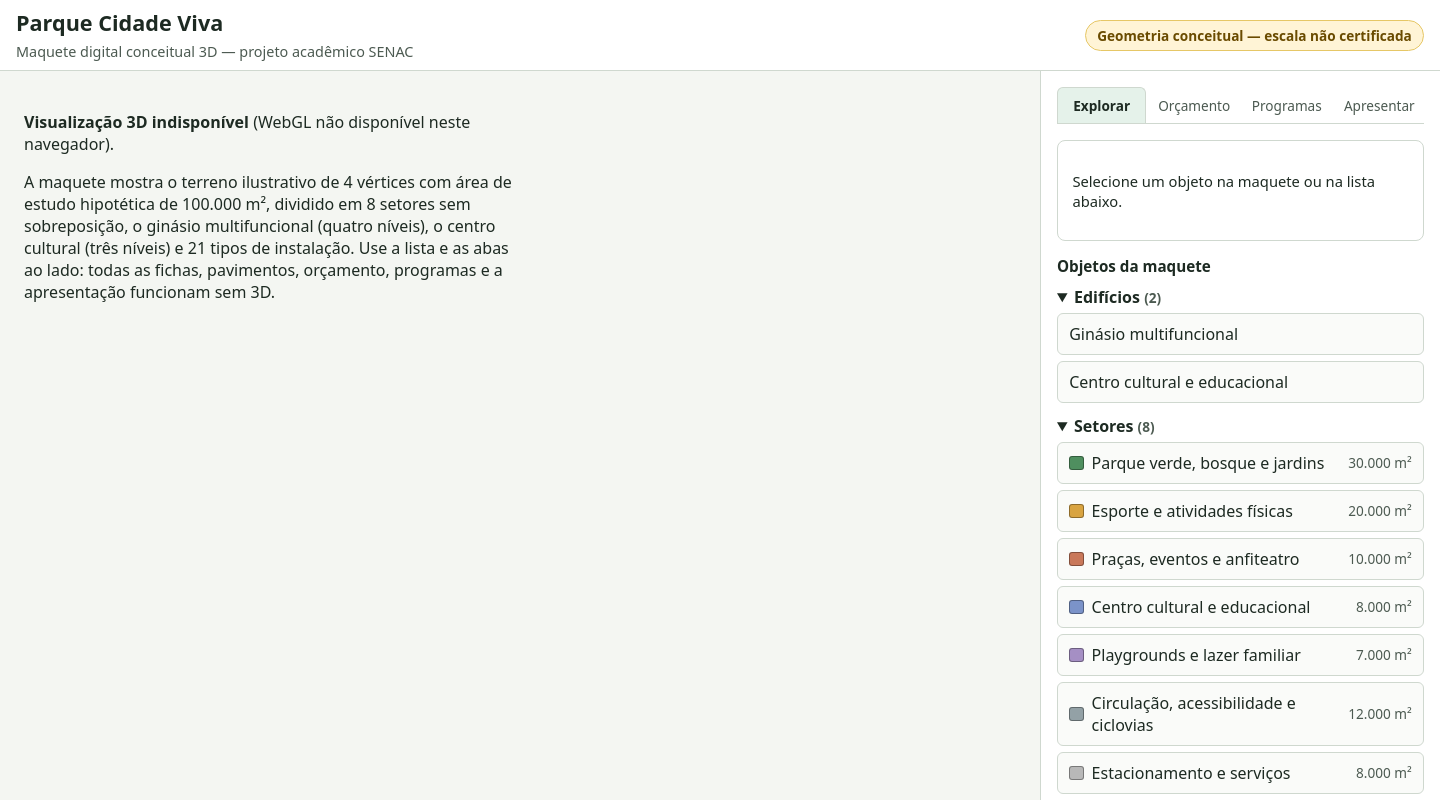
pavimentos (D3) › ginásio: modos fechado/explodido/corte e 4 níveis no seletor
This screenshot has width=1440, height=800.
What coordinates should you click on to do the following:
click the button "Ginásio multifuncional"
I would click on:
 (1240, 334)
Its box is [1057,313,1424,354].
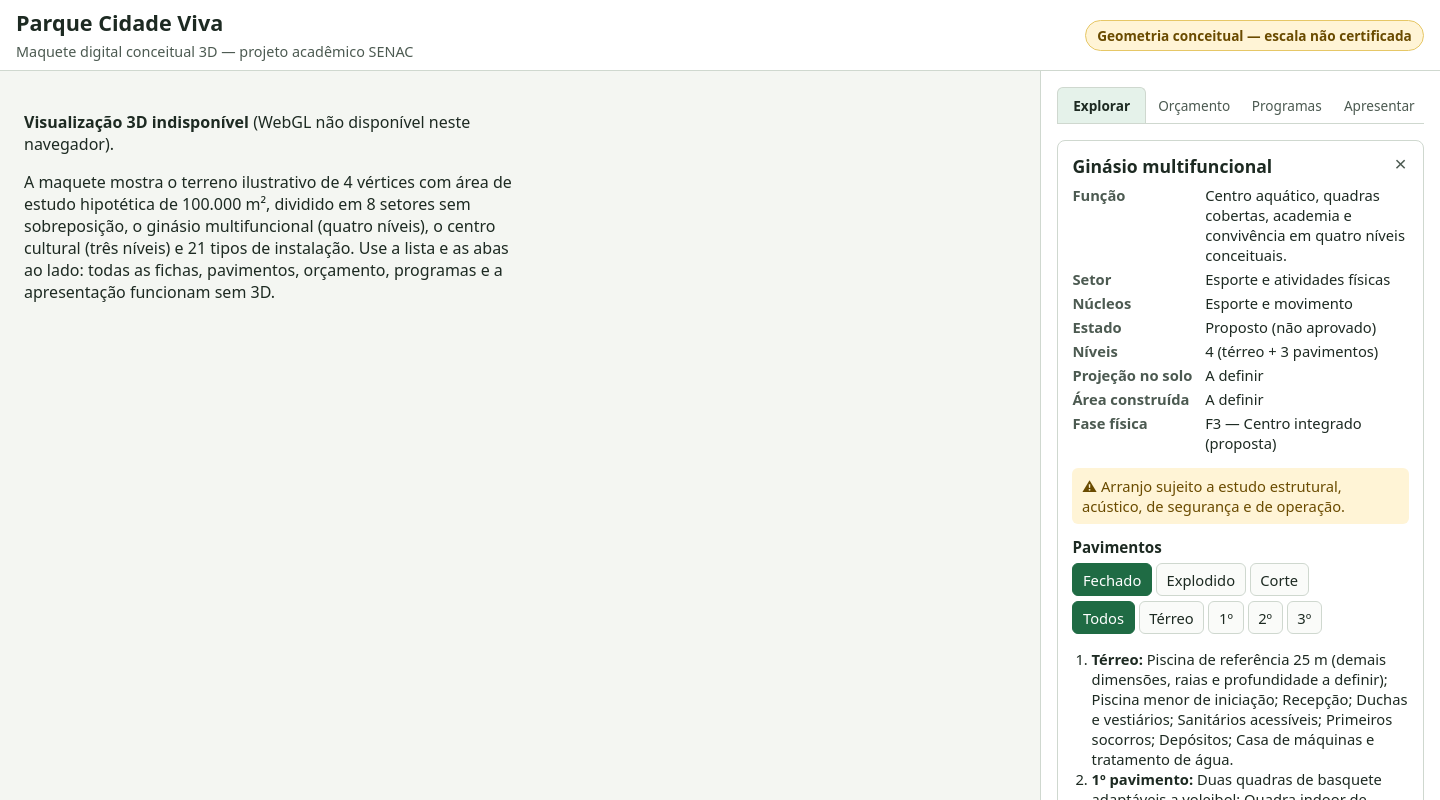
What coordinates should you click on to do the following:
click the button "Corte"
I would click on:
 (1279, 580)
Its box is [1250,563,1309,596].
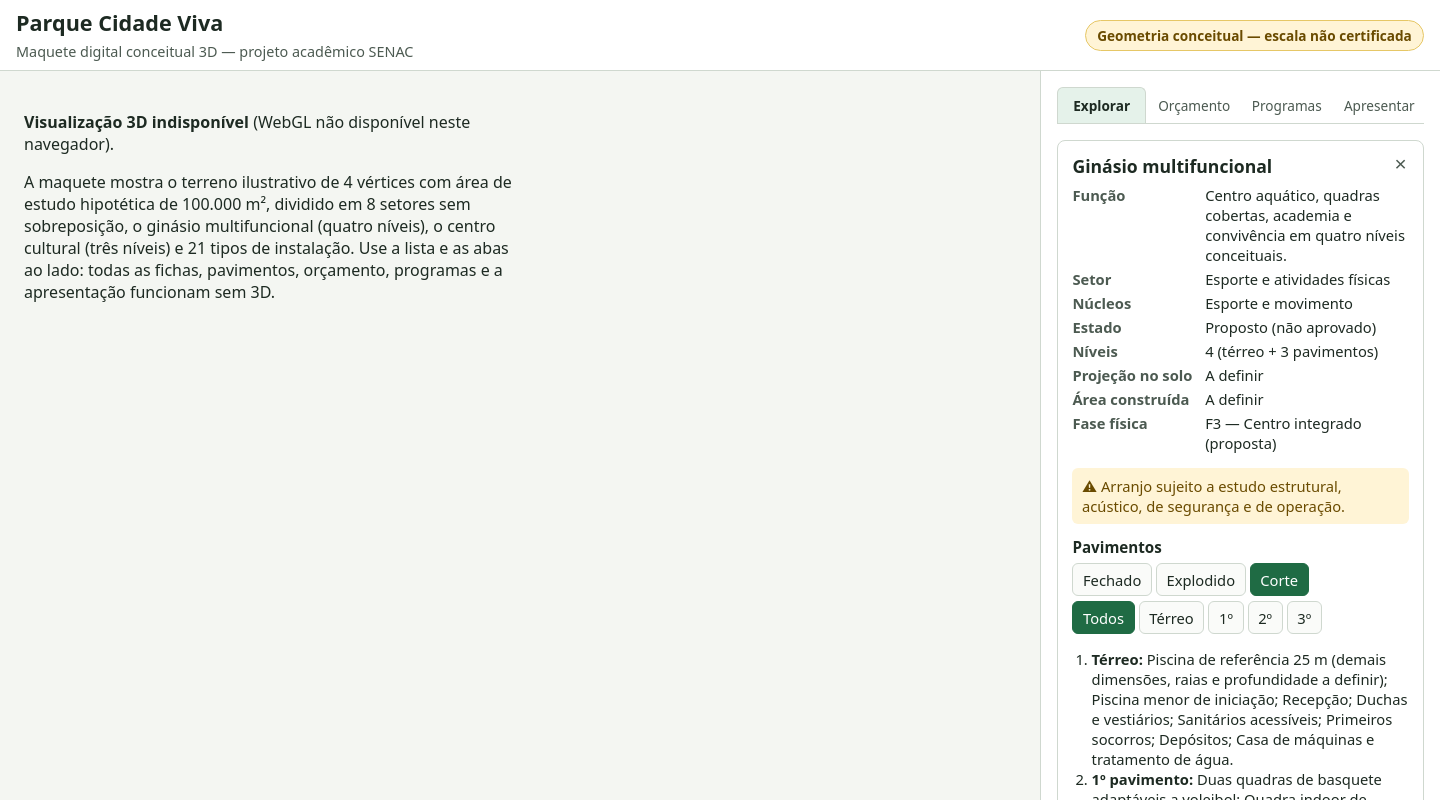
Expected: the button "Corte" is pressed, [1250,563,1309,596]
What coordinates should you click on to do the following:
click the button "2º"
I would click on:
 (1265, 618)
Its box is [1248,601,1283,634].
(page scrolled)
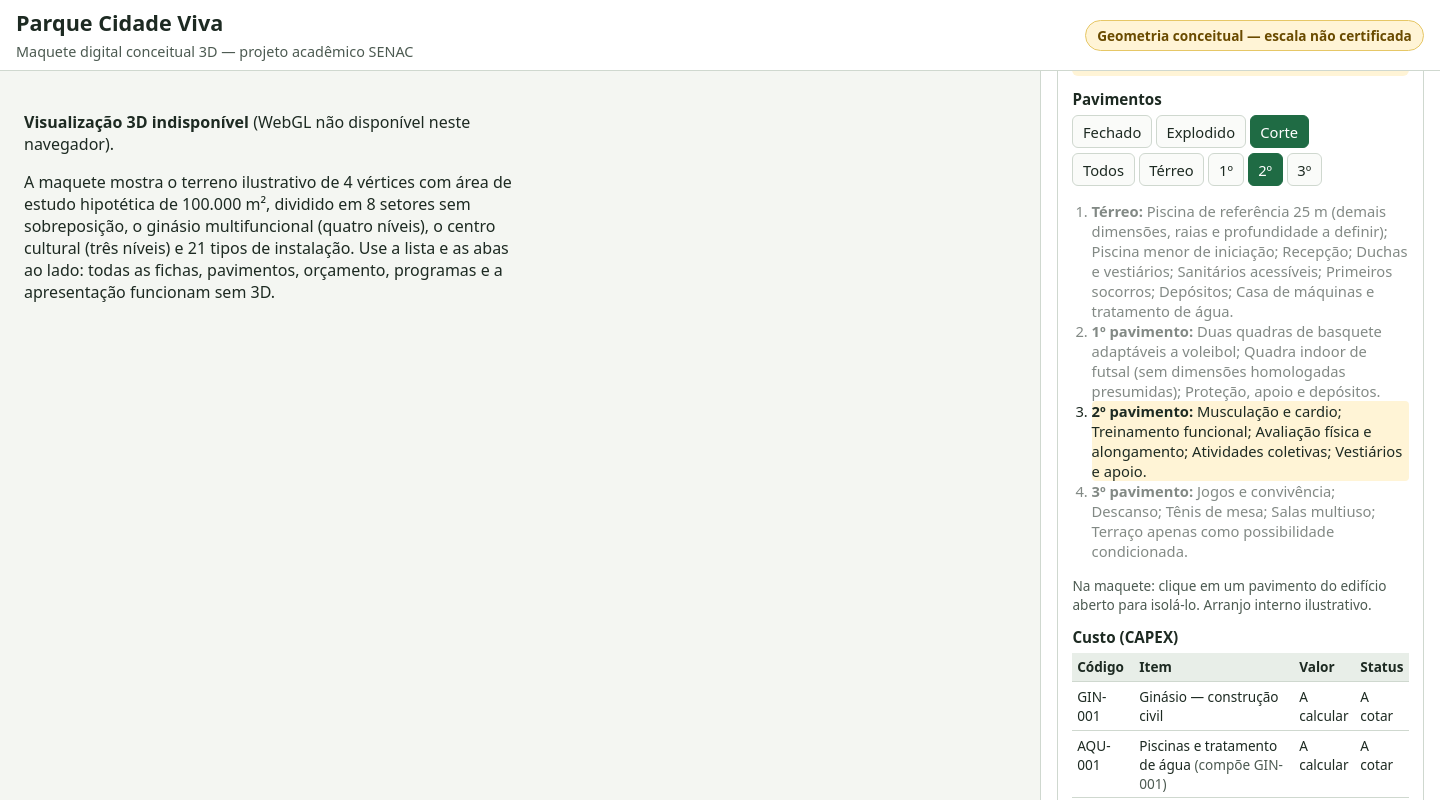
Expected: the list item that starts with "2º pavimento" shows "Musculação", [1092,401,1402,481]
